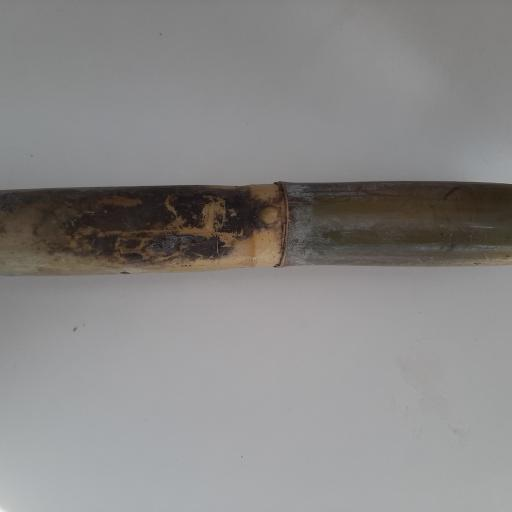Bud: (251, 205, 281, 224)
